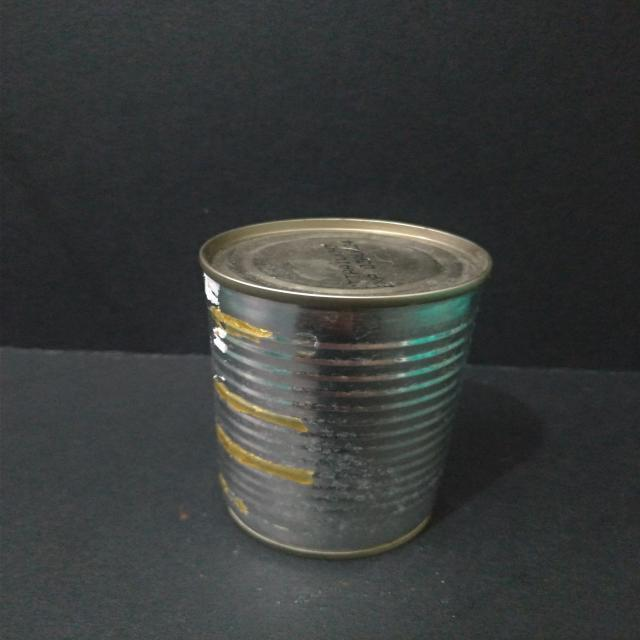metal-can: (193, 216, 497, 556)
